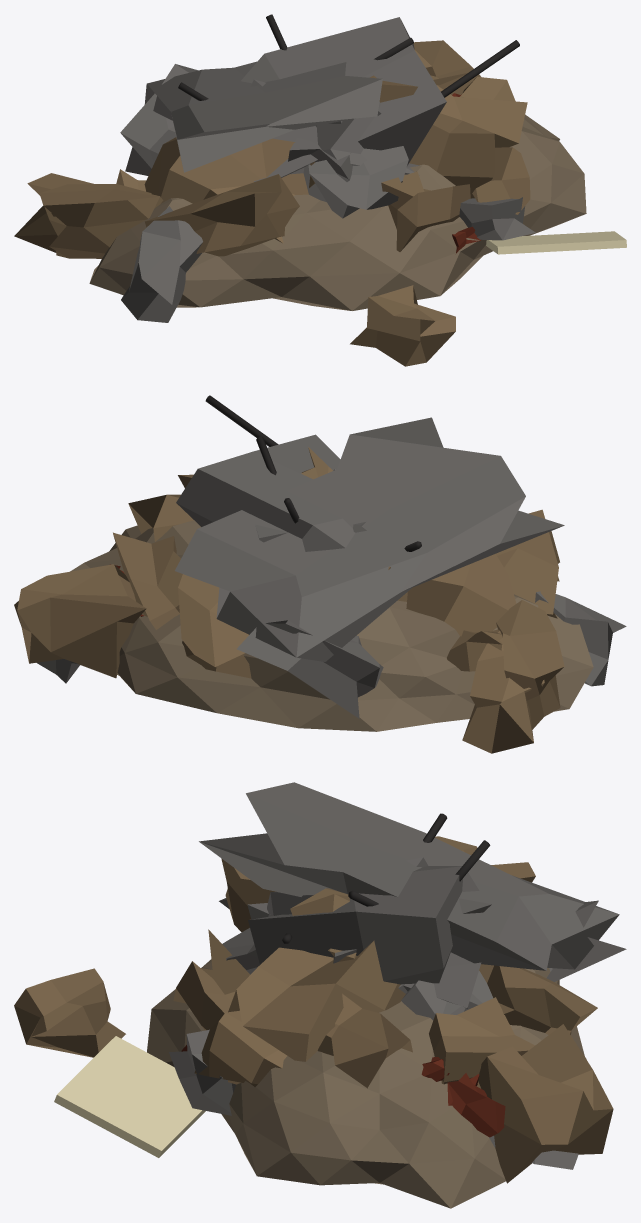
File: cover_rubble_2.glb
3 views of the same model, one above another, from view 1: azimuth 30°, elevation 25°; view 2: azimuth 150°, elevation 25°; view 3: azimuth 270°, elevation 25° (orthographic). The views are drawn at different scales.
Visible parts, largest first — view 1: mound, slab, lump_34, lump_20, lump_14, lump_27, lump_25, lump_28, lump_5, lump_13, lump_15, lump_17 (+10 smaller); view 2: slab, mound, lump_34, lump_18, lump_25, lump_27, lump_17, lump_21, lump_0, lump_11, lump_14, lump_28 (+4 smaller); view 3: mound, slab, lump_34, lump_18, lump_20, frame, lump_5, lump_11, lump_0, lump_1, lump_35, lump_15 (+11 smaller).
Part boxes in pixels (<box>): mound: <box>89,114,586,310</box>; slab: <box>144,61,382,172</box>; lump_34: <box>241,17,446,181</box>; lump_20: <box>409,85,527,198</box>; lump_14: <box>144,174,299,256</box>; lump_27: <box>39,184,163,258</box>; lump_25: <box>144,137,308,243</box>; lump_28: <box>121,206,202,322</box>; lump_5: <box>350,285,455,366</box>; lump_13: <box>308,146,408,218</box>; lump_15: <box>381,171,470,251</box>; lump_17: <box>120,64,198,175</box>; slab: <box>175,417,564,661</box>; mound: <box>70,520,593,731</box>; lump_34: <box>176,434,355,551</box>; lump_18: <box>14,564,146,678</box>; lump_25: <box>406,554,516,636</box>; lump_27: <box>496,600,564,729</box>; lump_17: <box>236,620,383,718</box>; lump_21: <box>462,630,544,753</box>; lump_0: <box>178,574,251,678</box>; lump_11: <box>113,532,182,629</box>; lump_14: <box>496,509,558,618</box>; lump_28: <box>535,591,626,686</box>; mound: <box>147,959,586,1208</box>; slab: <box>199,782,619,970</box>; lump_34: <box>248,866,479,984</box>; lump_18: <box>477,1024,613,1183</box>; lump_20: <box>228,940,405,1061</box>; frame: <box>54,1036,205,1157</box>; lump_5: <box>14,968,125,1057</box>; lump_11: <box>429,997,534,1084</box>; lump_0: <box>479,964,597,1034</box>; lump_1: <box>317,993,412,1088</box>; lump_35: <box>194,1010,287,1086</box>; lump_15: <box>173,929,249,1030</box>.
Bounding box in the file's own units: 2.32 × 0.8566 × 2.02.
